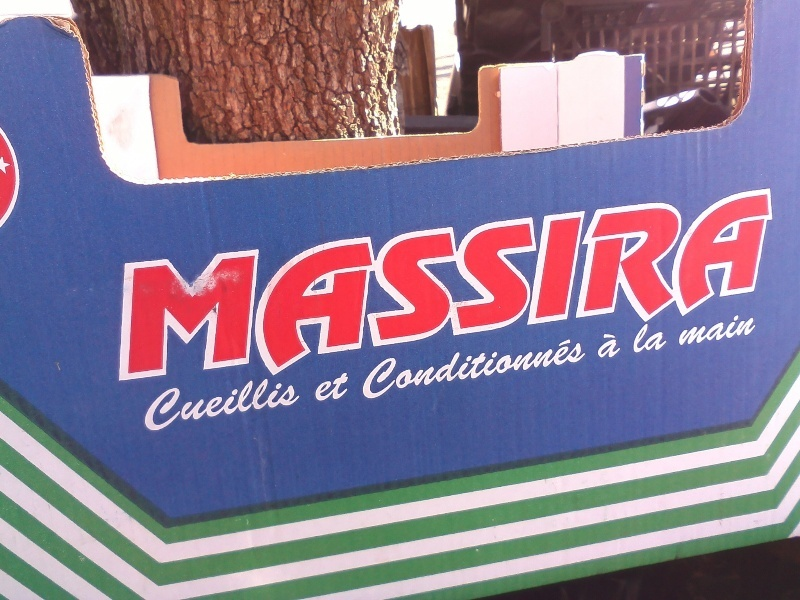text: (129, 185, 144, 400), (145, 185, 160, 400), (161, 185, 176, 400), (177, 185, 192, 400), (193, 185, 208, 400), (209, 185, 224, 400), (225, 185, 240, 400), (241, 185, 256, 400), (257, 185, 272, 400), (273, 185, 288, 400), (289, 185, 304, 400), (305, 185, 320, 400), (321, 185, 336, 400), (337, 185, 352, 400), (353, 185, 368, 400), (369, 185, 384, 400), (385, 185, 400, 400), (401, 185, 416, 400), (417, 185, 432, 400), (433, 185, 448, 400), (449, 185, 464, 400), (465, 185, 480, 400), (481, 185, 496, 400), (497, 185, 512, 400), (513, 185, 528, 400), (529, 185, 544, 400), (545, 185, 560, 400), (561, 185, 576, 400), (577, 185, 592, 400), (593, 185, 608, 400), (609, 185, 624, 400), (625, 185, 640, 400), (641, 185, 656, 400), (657, 185, 672, 400), (673, 185, 688, 400), (689, 185, 704, 400), (705, 185, 720, 400), (721, 185, 736, 400), (737, 185, 752, 400), (753, 185, 768, 400), (117, 185, 128, 400), (769, 185, 779, 400), (369, 326, 384, 405), (385, 326, 400, 405), (401, 326, 416, 405), (417, 326, 432, 405), (433, 326, 448, 405), (449, 326, 464, 405), (465, 326, 480, 405), (481, 326, 496, 405), (497, 326, 512, 405), (513, 326, 528, 405), (529, 326, 544, 405), (545, 326, 560, 405), (561, 326, 576, 405), (577, 326, 590, 405), (289, 375, 305, 433), (145, 375, 160, 433), (161, 375, 176, 433), (177, 375, 192, 433), (193, 375, 208, 433), (209, 375, 224, 433), (225, 375, 240, 433), (241, 375, 256, 433), (257, 375, 272, 433), (273, 375, 288, 433), (689, 308, 704, 351), (705, 308, 720, 351), (721, 308, 736, 351), (737, 308, 752, 351), (641, 317, 656, 359), (675, 308, 688, 351), (753, 308, 766, 351), (609, 326, 624, 363), (657, 317, 670, 359), (321, 372, 336, 404), (362, 326, 368, 405), (629, 317, 640, 359), (337, 372, 350, 404), (597, 326, 608, 363), (314, 372, 320, 404), (143, 375, 144, 433), (625, 326, 626, 363)
